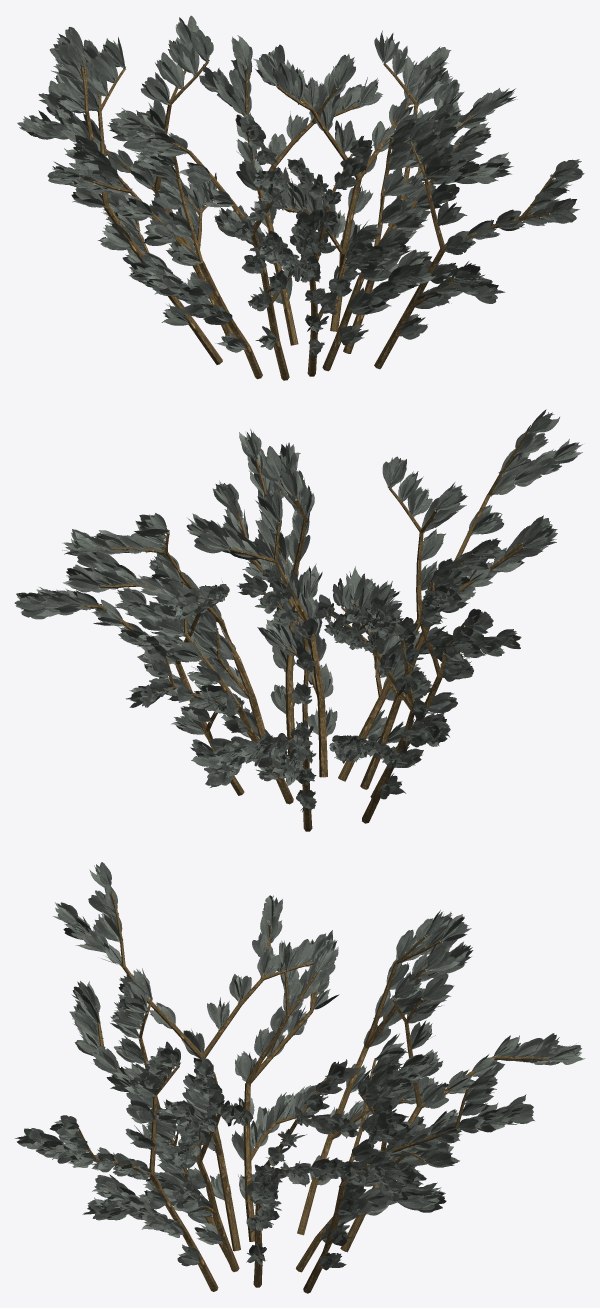
Rendered from sagebrush_grey_v01.fbx.
3 views of the same model, one above another, from view 1: azimuth 30°, elevation 25°; view 2: azimuth 150°, elevation 25°; view 3: azimuth 270°, elevation 25° (orthographic). The views are drawn at different scales.
Parts seen in each view (by area): view 1: sagebrush_grey_v01; view 2: sagebrush_grey_v01; view 3: sagebrush_grey_v01.
Boxes of the visible parts, bbox=[...] form: sagebrush_grey_v01: bbox=[17, 15, 584, 380]; sagebrush_grey_v01: bbox=[14, 409, 582, 831]; sagebrush_grey_v01: bbox=[15, 862, 585, 1293].
Size of the model in its own units: 75.98 by 54.85 by 83.54.
